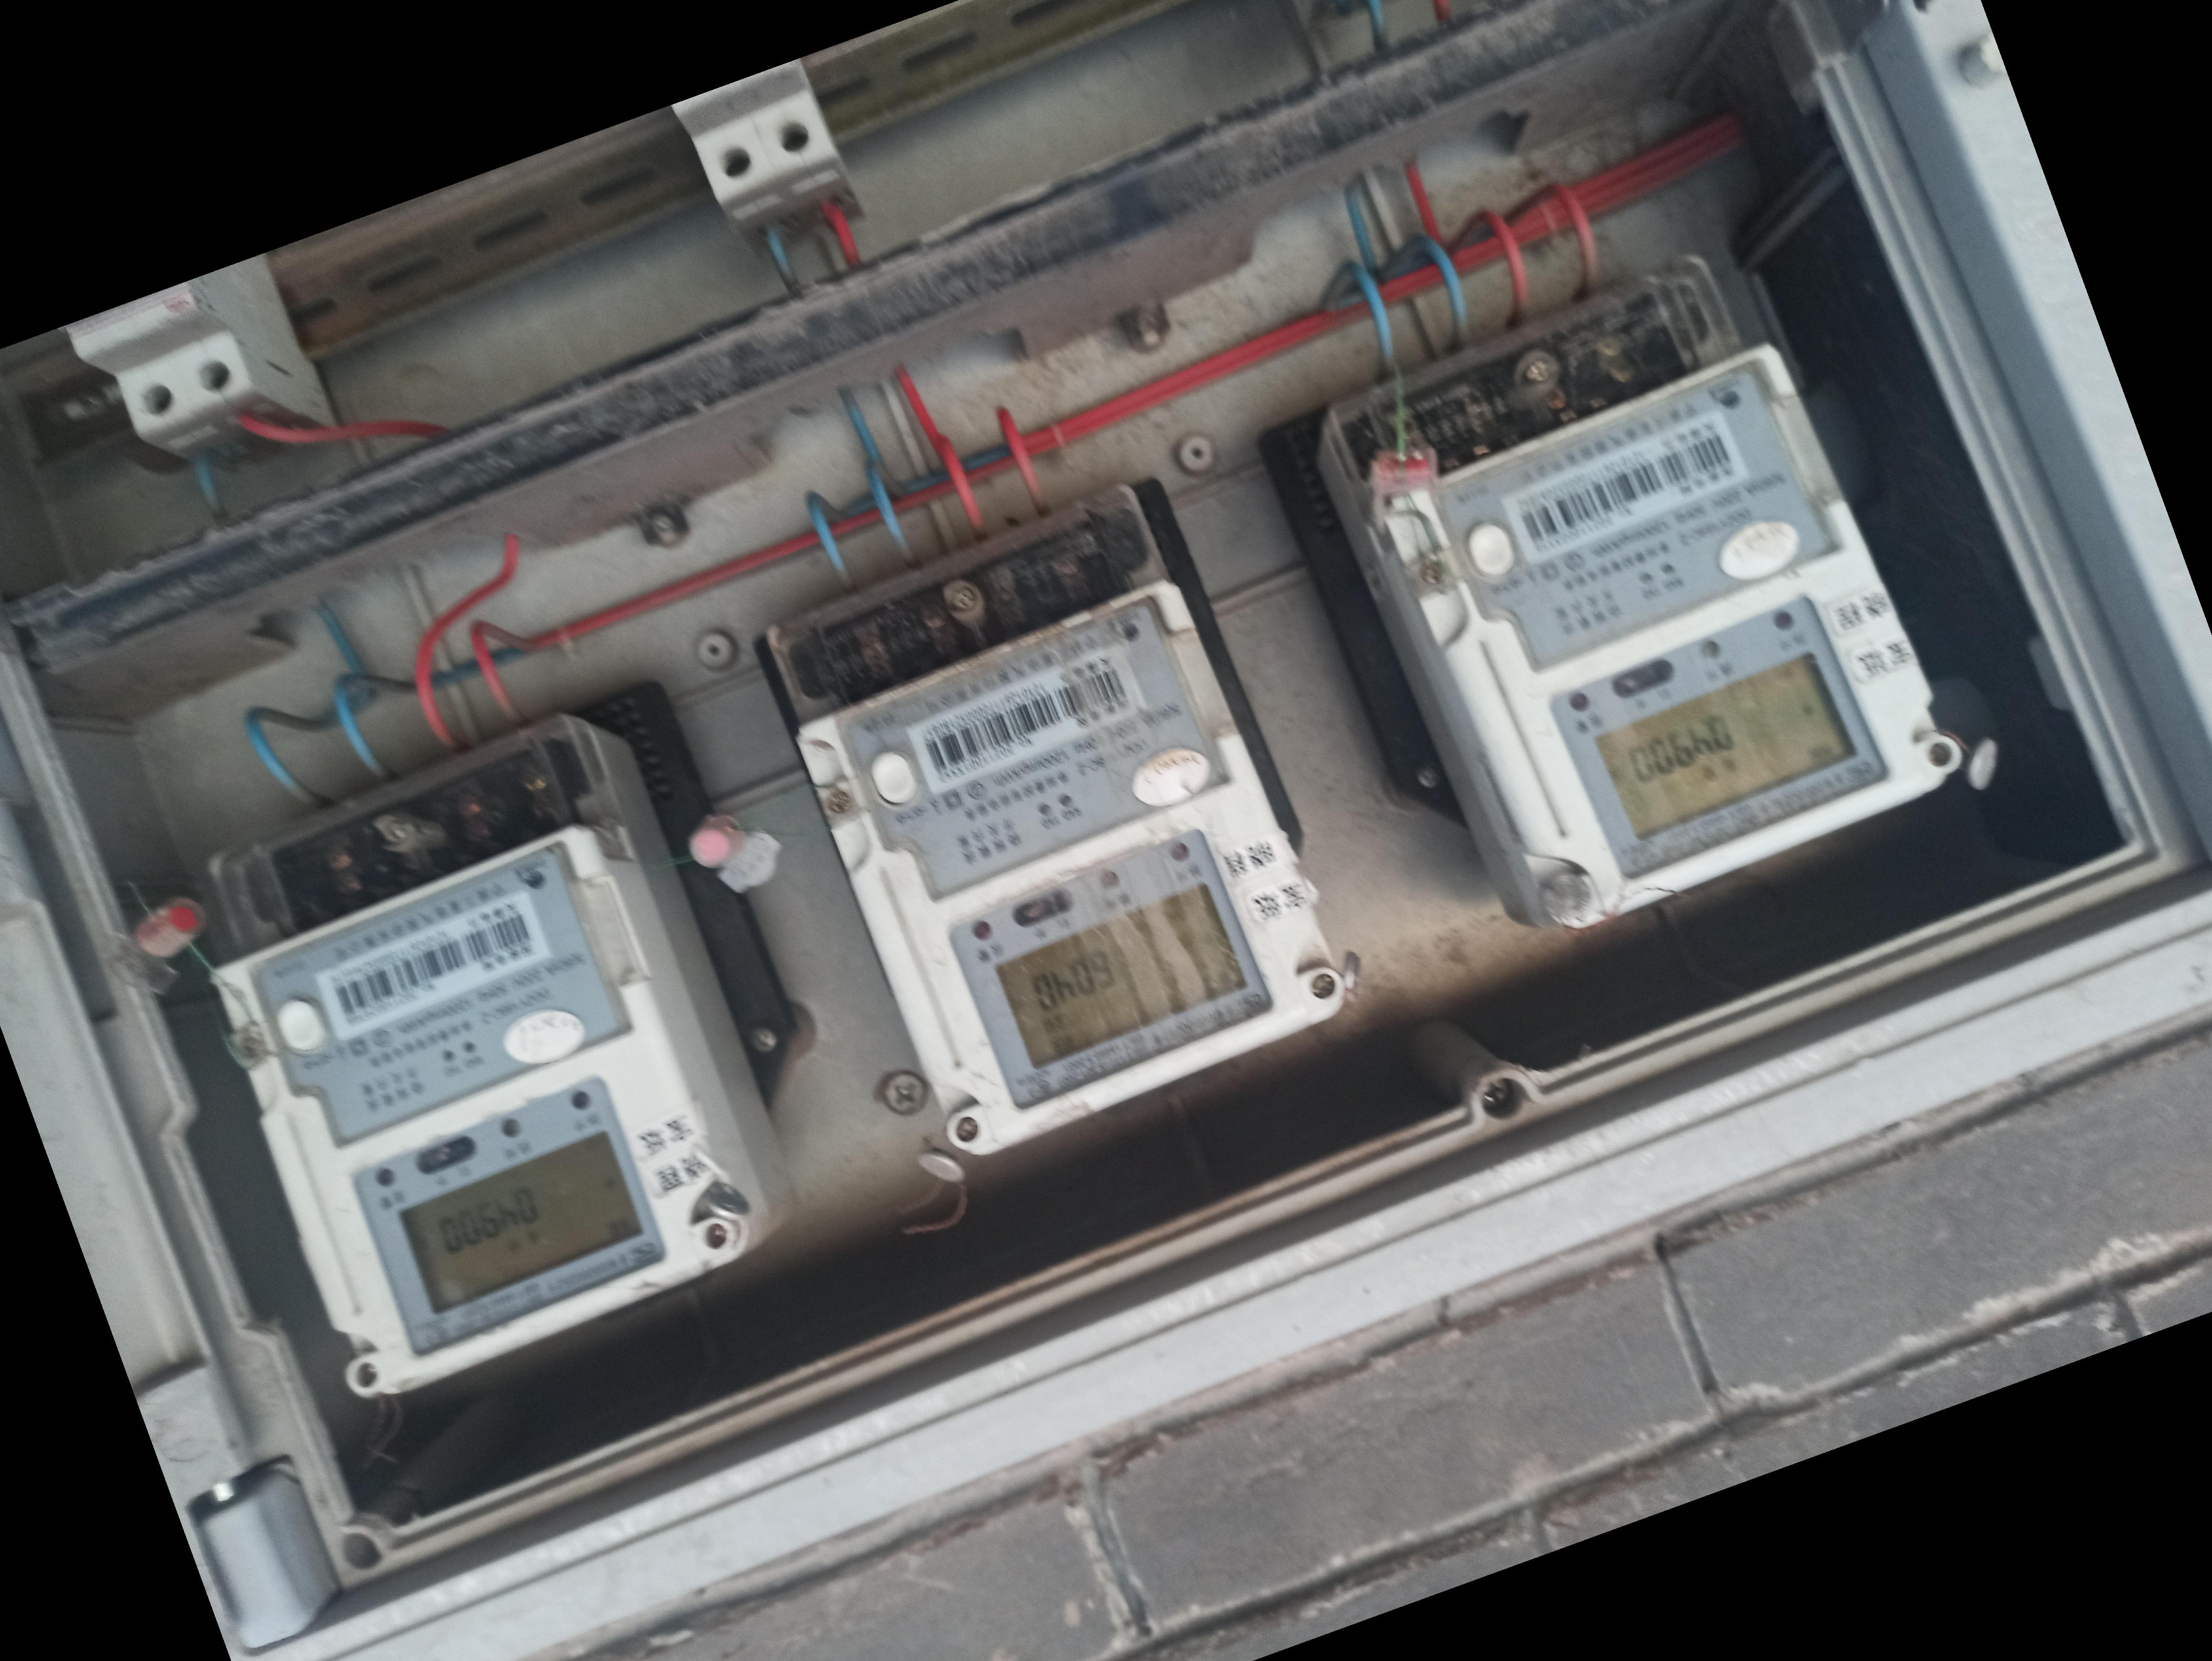digital: (1389, 340, 1957, 916), (811, 576, 1338, 1145), (209, 832, 736, 1385)
